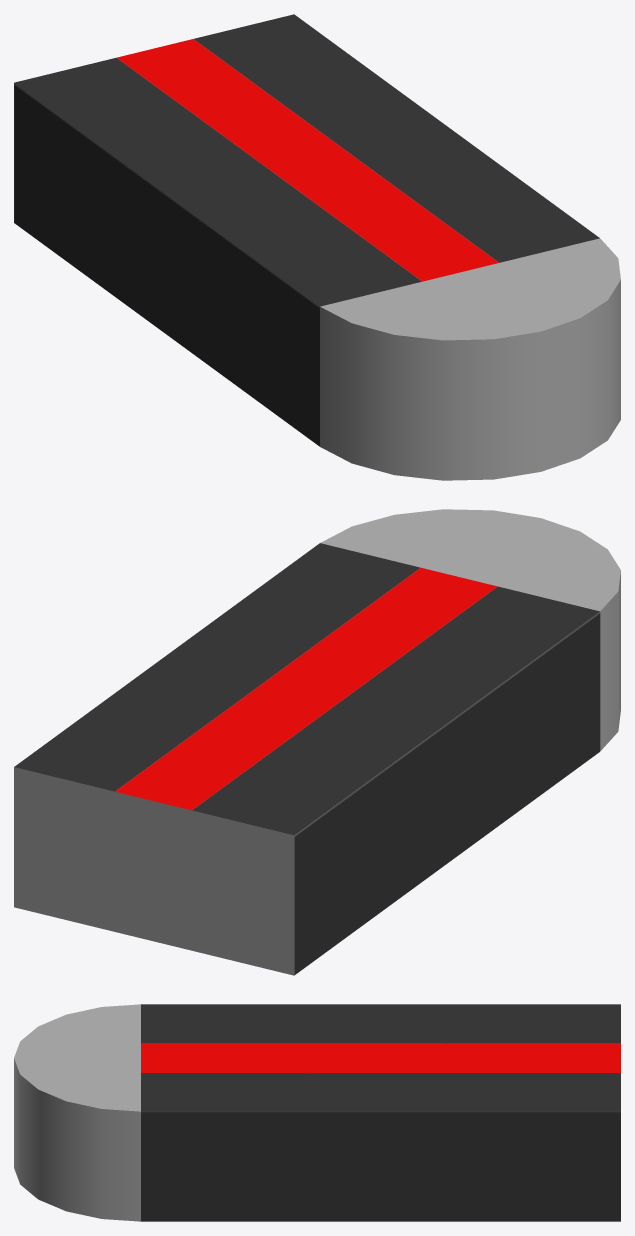
Rendered from enemy_eraser_04.glb.
3 renders of one model, top to bottom at view 1: azimuth 30°, elevation 25°; view 2: azimuth 150°, elevation 25°; view 3: azimuth 270°, elevation 25°, orthographic. The views are drawn at different scales.
Visible parts, largest first — view 1: obj1; view 2: obj1; view 3: obj1.
Part boxes in pixels (<box>): obj1: <box>14,14,620,480</box>; obj1: <box>14,509,620,975</box>; obj1: <box>14,1004,620,1221</box>.
Size of the model in its own units: 2.3 by 1.1 by 5.5.
Materials: 1 (1 with a texture image).
